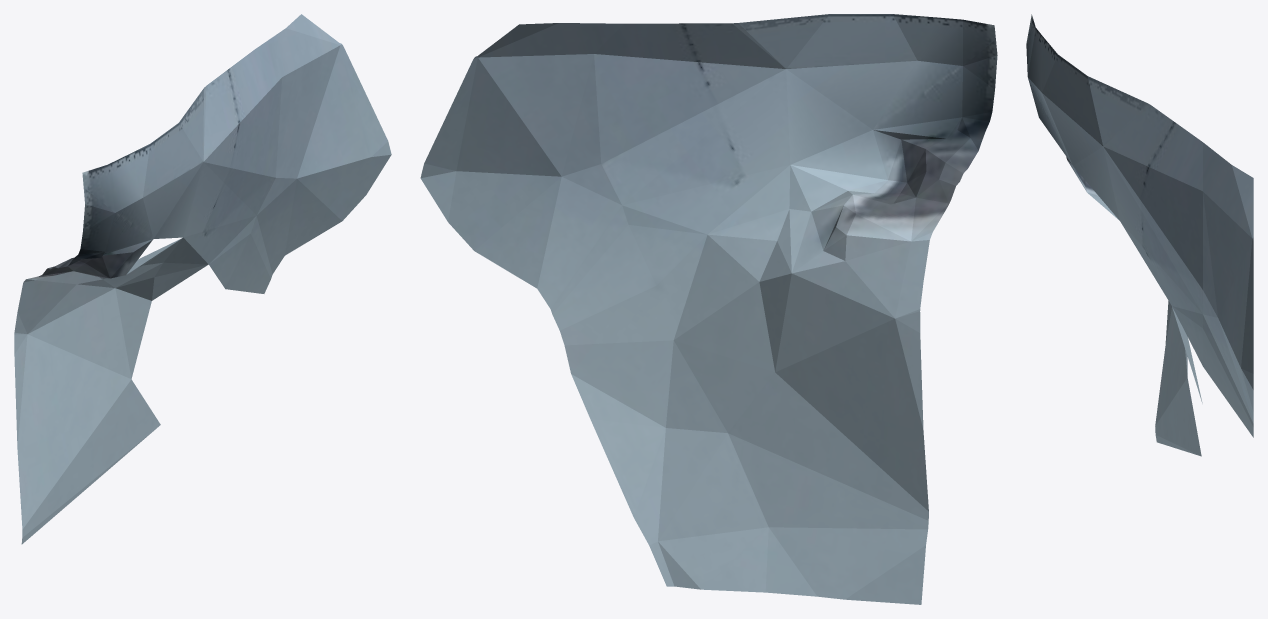
The picture shows the model from 3 angles, left to right: view 1: azimuth 30°, elevation 25°; view 2: azimuth 150°, elevation 25°; view 3: azimuth 270°, elevation 25°; orthographic projection. The views are drawn at different scales.
Size of the model in its own units: 1.52 by 1.67 by 0.6976.
Materials: 2 (2 with a texture image).
